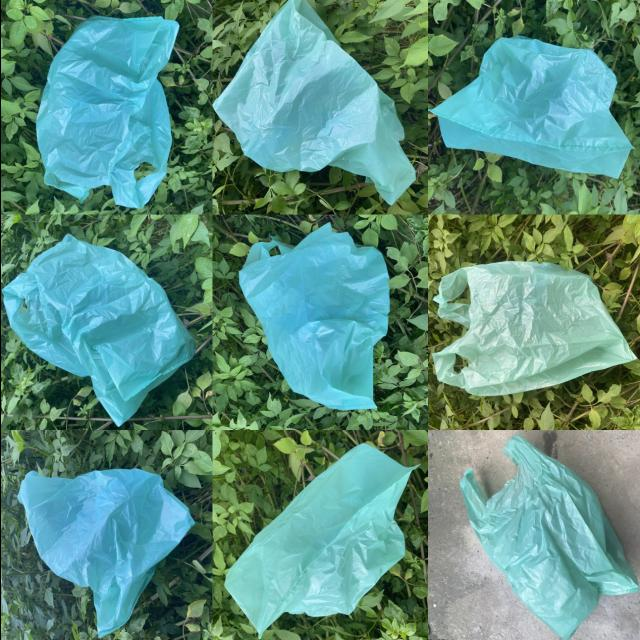plastik: (212, 0, 414, 204), (2, 235, 194, 426), (223, 444, 415, 635), (459, 436, 637, 638), (17, 469, 193, 637), (430, 36, 631, 178), (238, 224, 389, 411), (432, 262, 635, 396), (35, 17, 178, 207)
